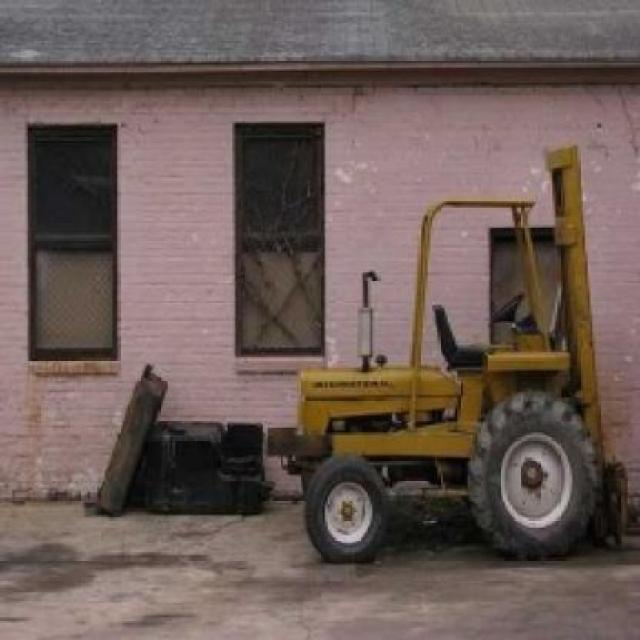forklift: (280, 148, 608, 563)
